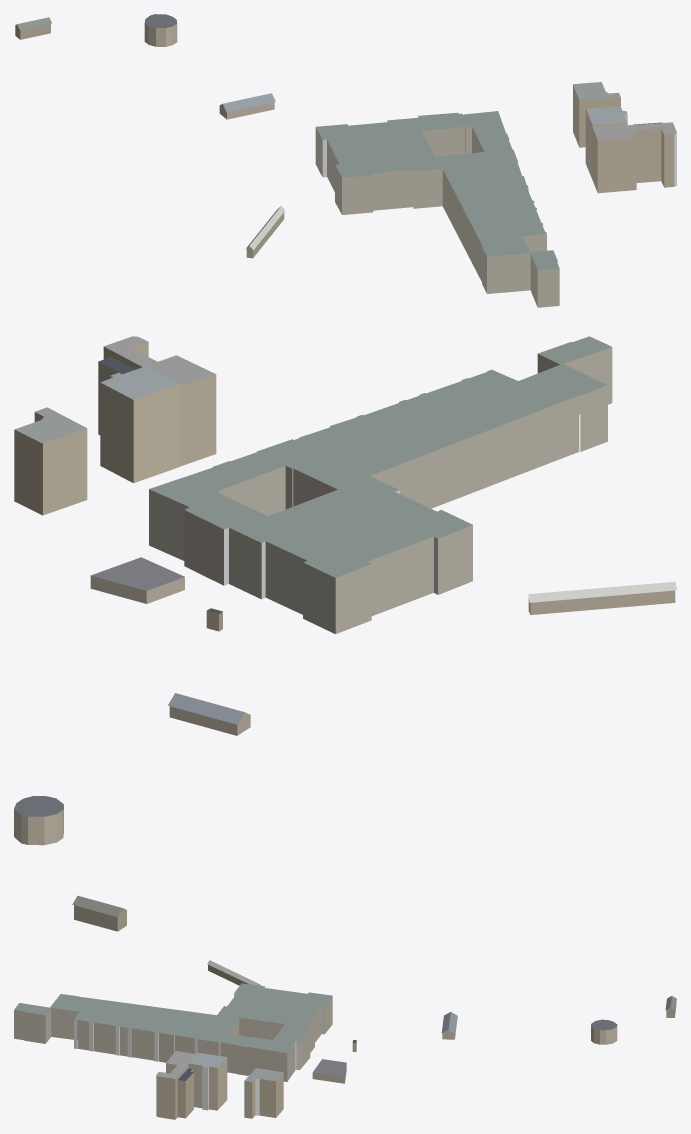
3 views of the same model, one above another, from view 1: azimuth 30°, elevation 25°; view 2: azimuth 150°, elevation 25°; view 3: azimuth 270°, elevation 25° (orthographic). The views are drawn at different scales.
Visible parts, largest first — view 1: tuile; view 2: tuile; view 3: tuile.
Boxes of the visible parts, bbox=[...] form: tuile: bbox=[15, 14, 676, 307]; tuile: bbox=[14, 336, 676, 931]; tuile: bbox=[14, 960, 676, 1119].
Size of the model in its own units: 176 by 29.76 by 324.
